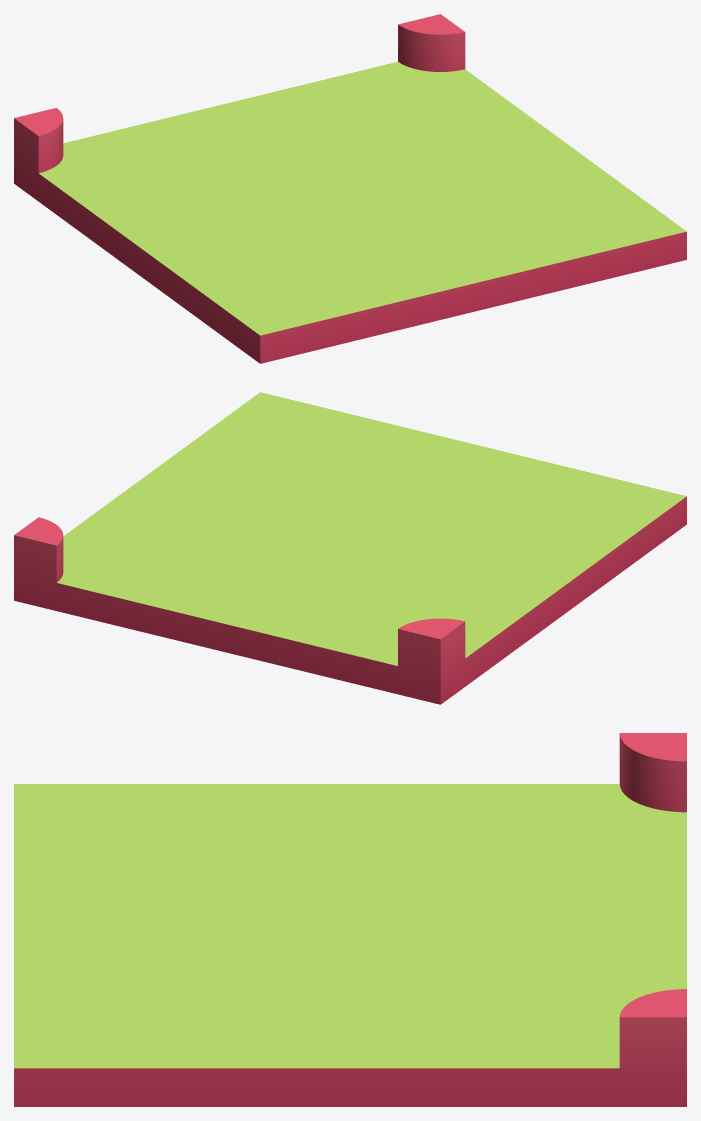
The model's file is walls-to-open.fbx.
The picture shows the model from 3 angles, top to bottom: view 1: azimuth 30°, elevation 25°; view 2: azimuth 150°, elevation 25°; view 3: azimuth 270°, elevation 25°; orthographic projection. The views are drawn at different scales.
Visible parts, largest first — view 1: walls_to_open; view 2: walls_to_open; view 3: walls_to_open.
Boxes of the visible parts, box(x1,y1,x2,y2) form: walls_to_open: box(14, 14, 686, 363); walls_to_open: box(14, 392, 686, 704); walls_to_open: box(14, 733, 686, 1106).
Size of the model in its own units: 99.99 by 14.67 by 99.99.
Materials: 1 (1 with a texture image).
